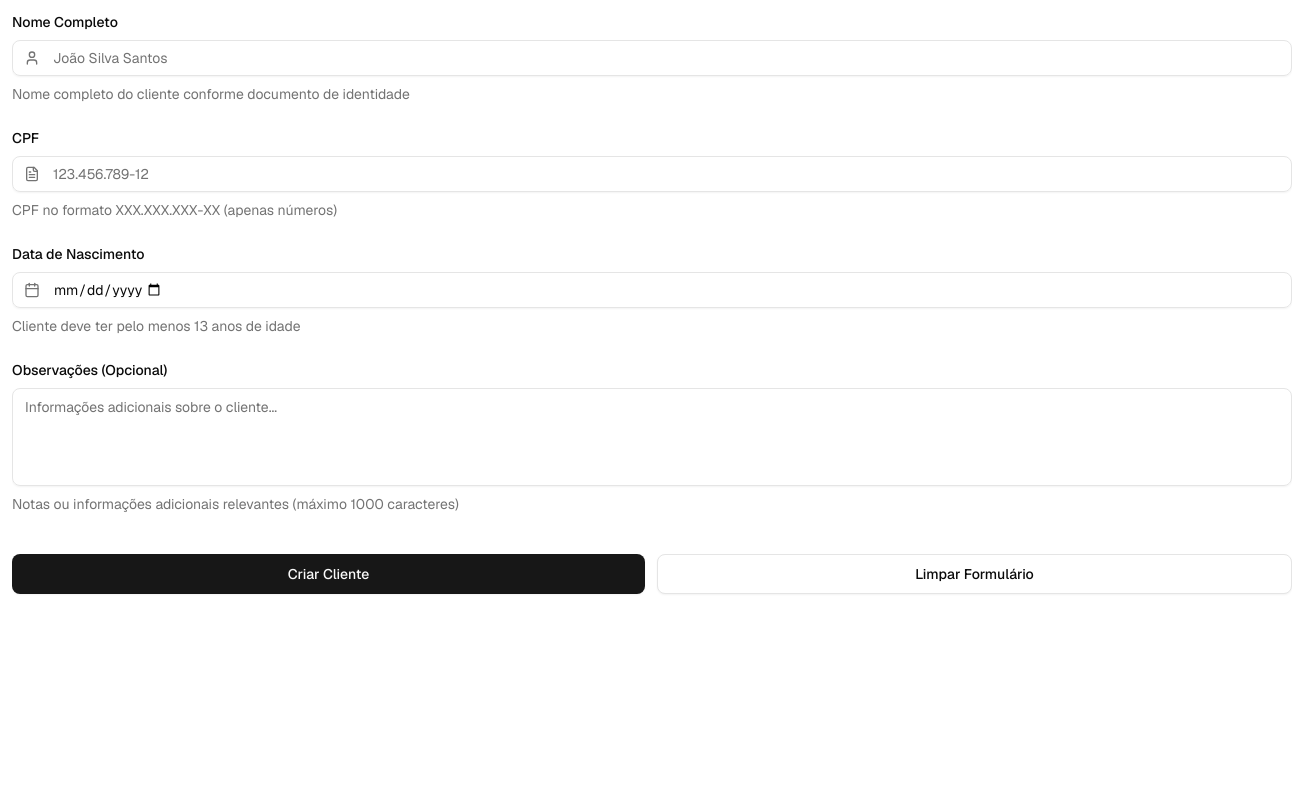
Test case: ClientRegistrationForm - Responsive & Accessibility Tests › Accessibility Compliance › should support assistive technology for form validation
# Enter invalid data
In the field named "nome completo": (652, 58) [12,40,1292,76], type "A"
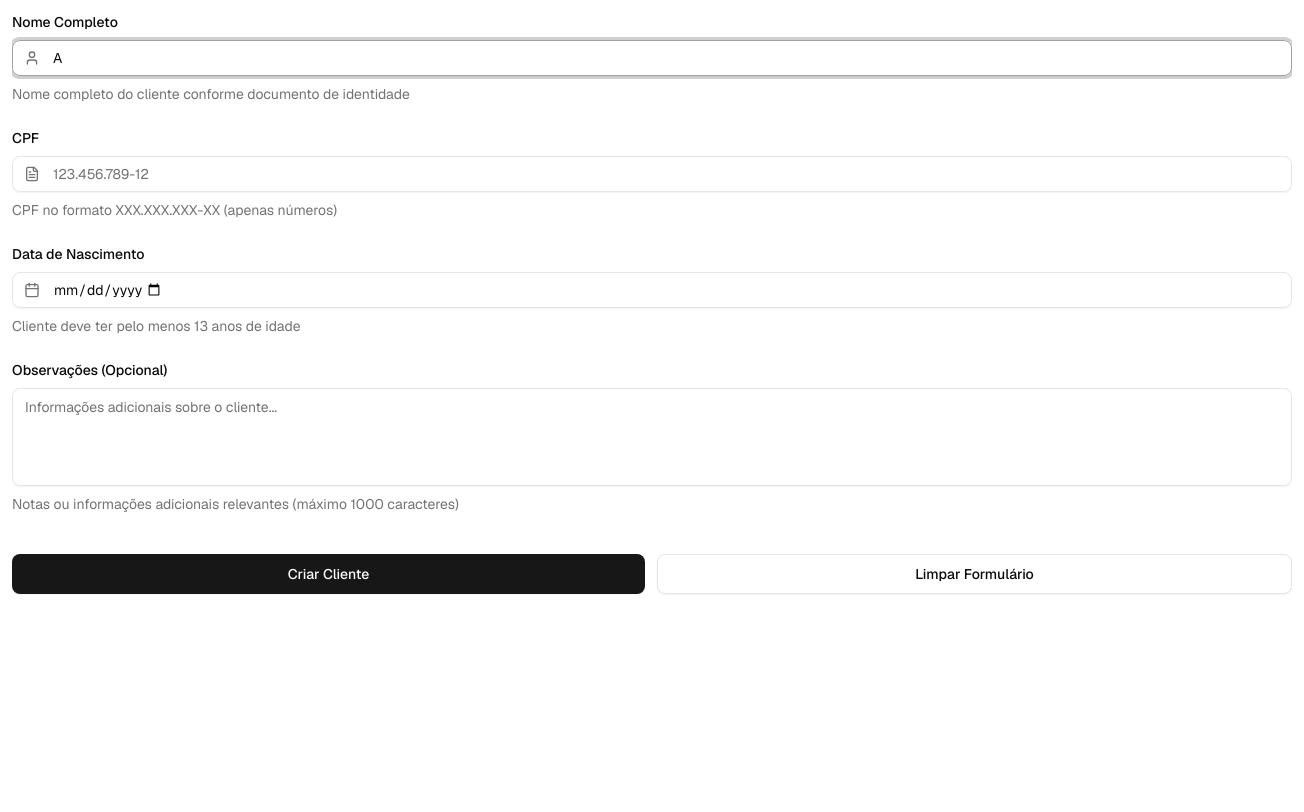
Click the button "Criar Cliente": (328, 574) [12,554,645,594]
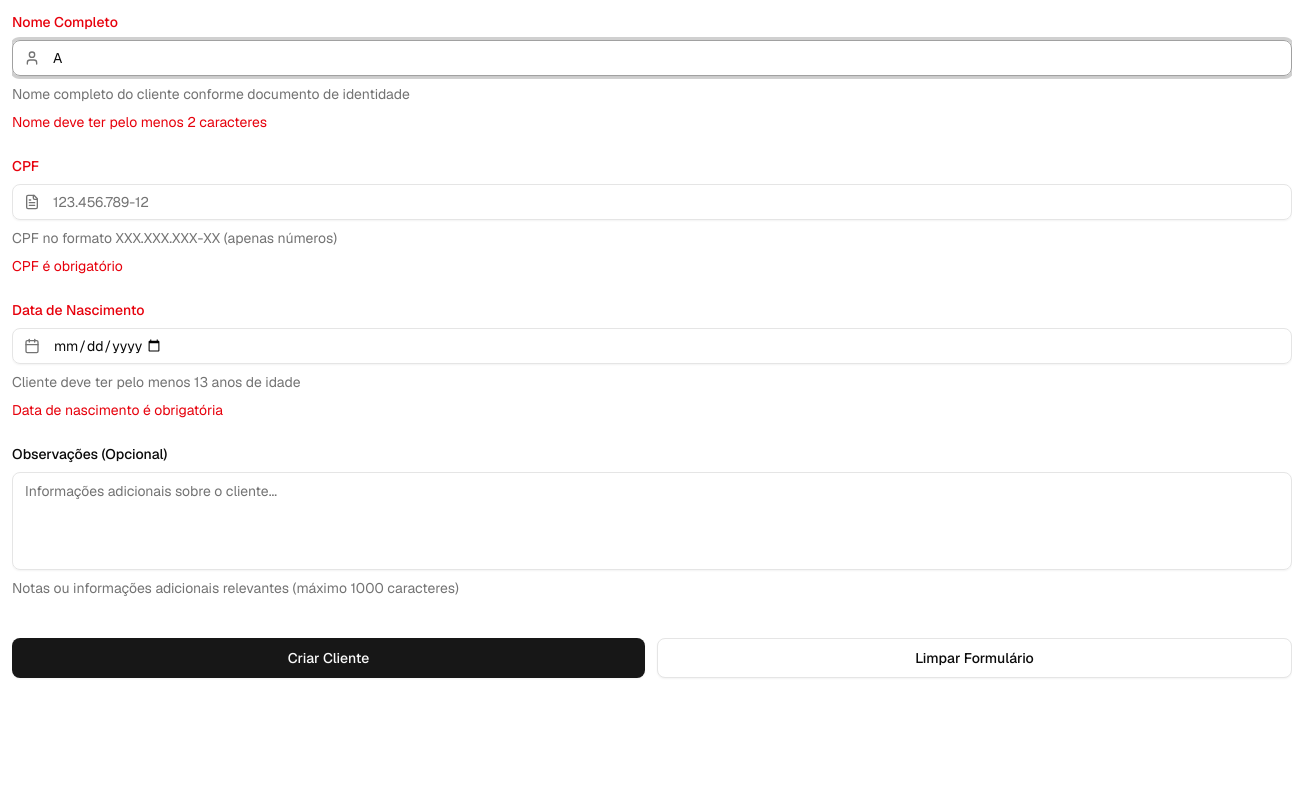
Expected: the text "Nome deve ter pelo menos 2 caracteres" is shown, [12,113,267,131]
